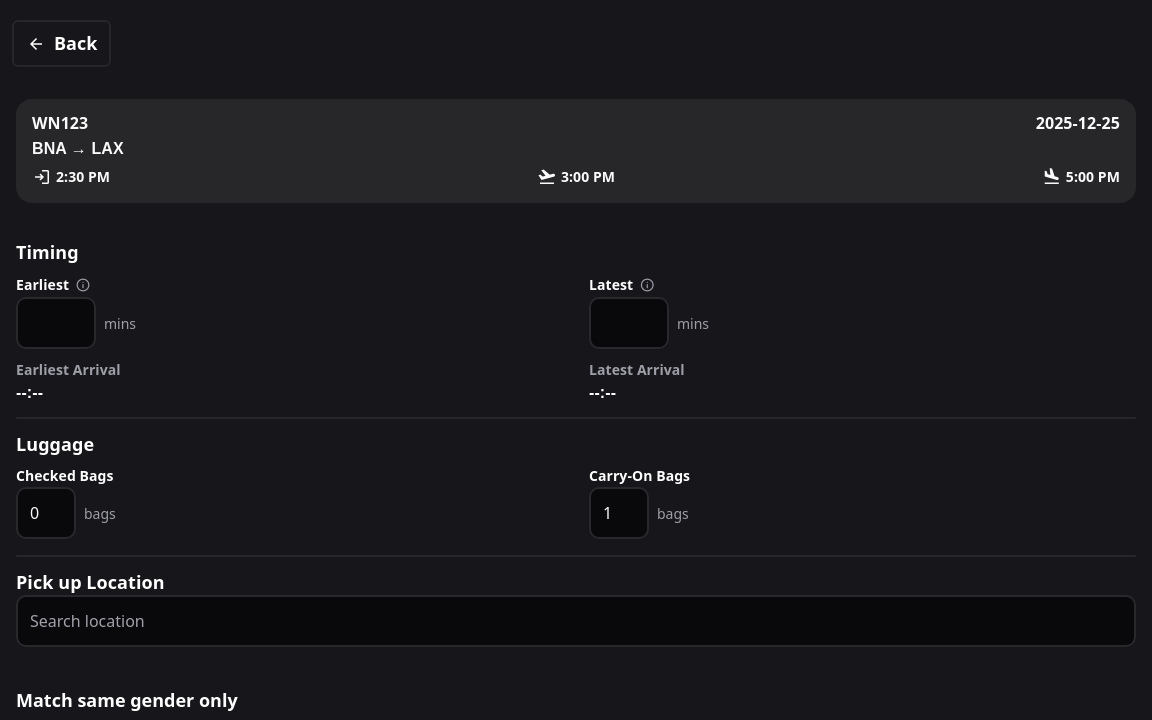
it: RidePreferencesScreen › Timing Inputs › only allows numeric input for latest time
The width and height of the screenshot is (1152, 720).
In the 2nd field: (629,323) [589, 297, 669, 349], type "xyz456"
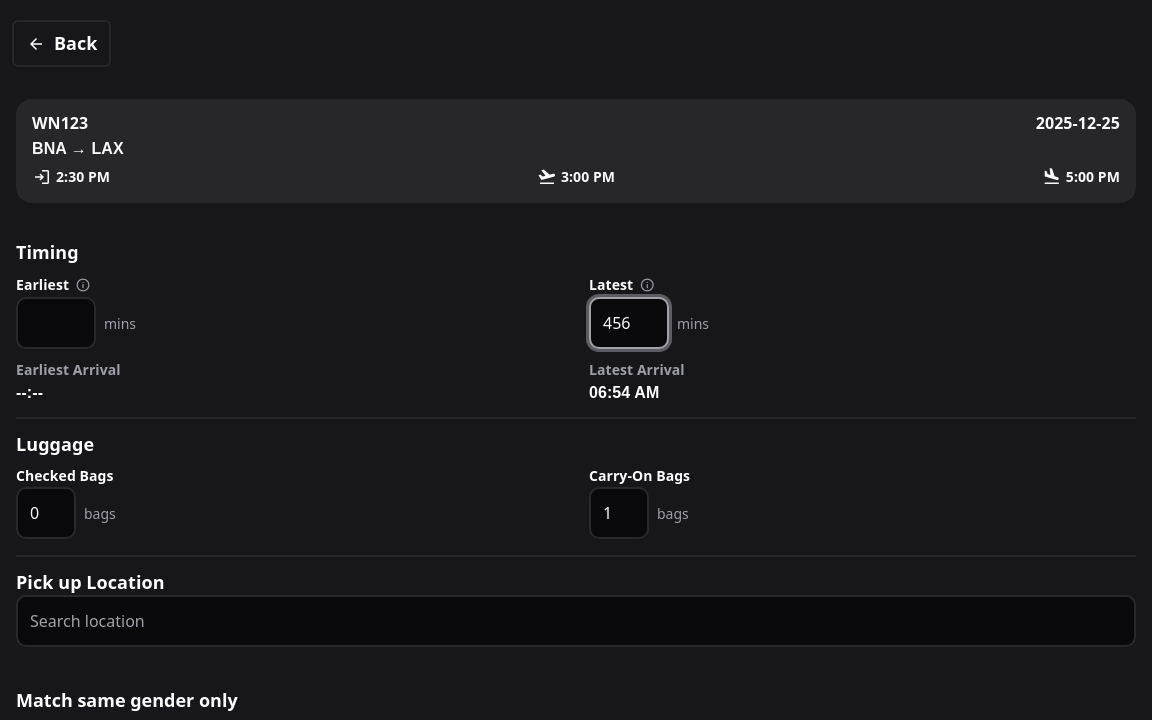
Check: the 2nd field holds "456", box [589, 297, 669, 349]
